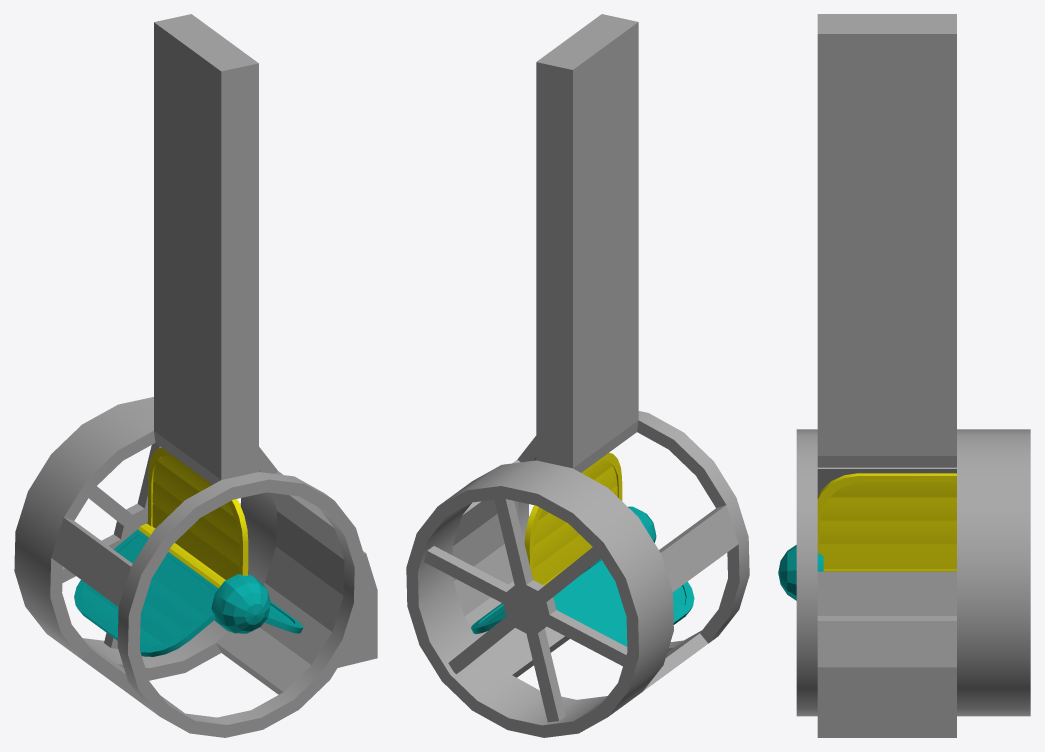
File: _ANM_FanInFront.fbx
3 renders of one model, left to right at view 1: azimuth 30°, elevation 25°; view 2: azimuth 150°, elevation 25°; view 3: azimuth 270°, elevation 25°, orthographic. The views are drawn at different scales.
Parts seen in each view (by area): view 1: pPipe19, pCube597, pCube720, pCube598 (×2), pSphere1, pCylinder174, pCylinder173; view 2: pPipe19, pCylinder174, pCube597, pCube720, pCube598; view 3: pPipe19, pCube720, pCube598, pSphere1.
Boxes of the visible parts, box(x1,y1,x2,y2) form: pPipe19: box(14, 14, 377, 737); pCube597: box(83, 535, 215, 646); pCube720: box(152, 455, 239, 579); pCube598 (×2): box(74, 447, 248, 656); pSphere1: box(211, 574, 270, 633); pCylinder174: box(62, 443, 161, 648); pCylinder173: box(138, 524, 225, 588); pPipe19: box(406, 14, 749, 737); pCylinder174: box(424, 498, 627, 722); pCube597: box(553, 560, 685, 645); pCube720: box(533, 460, 617, 584); pCube598: box(524, 453, 622, 579); pPipe19: box(796, 14, 1030, 737); pCube720: box(819, 482, 956, 569); pCube598: box(817, 473, 956, 571); pSphere1: box(778, 545, 823, 600).
Bounding box in the file's own units: 9.93 × 24.04 × 8.1.
